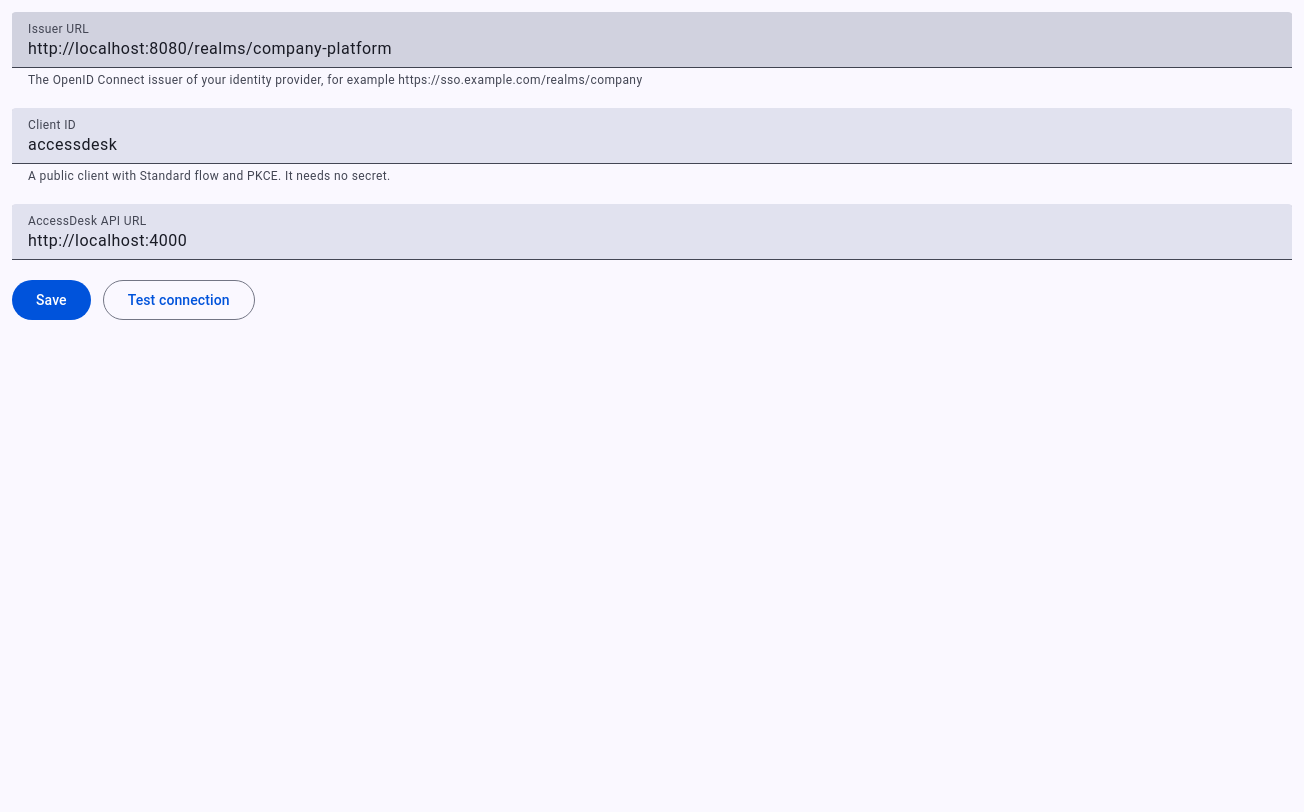
it: where toasts are used › confirms that settings were saved
Click the button "Save": (51, 300) [12,280,91,320]
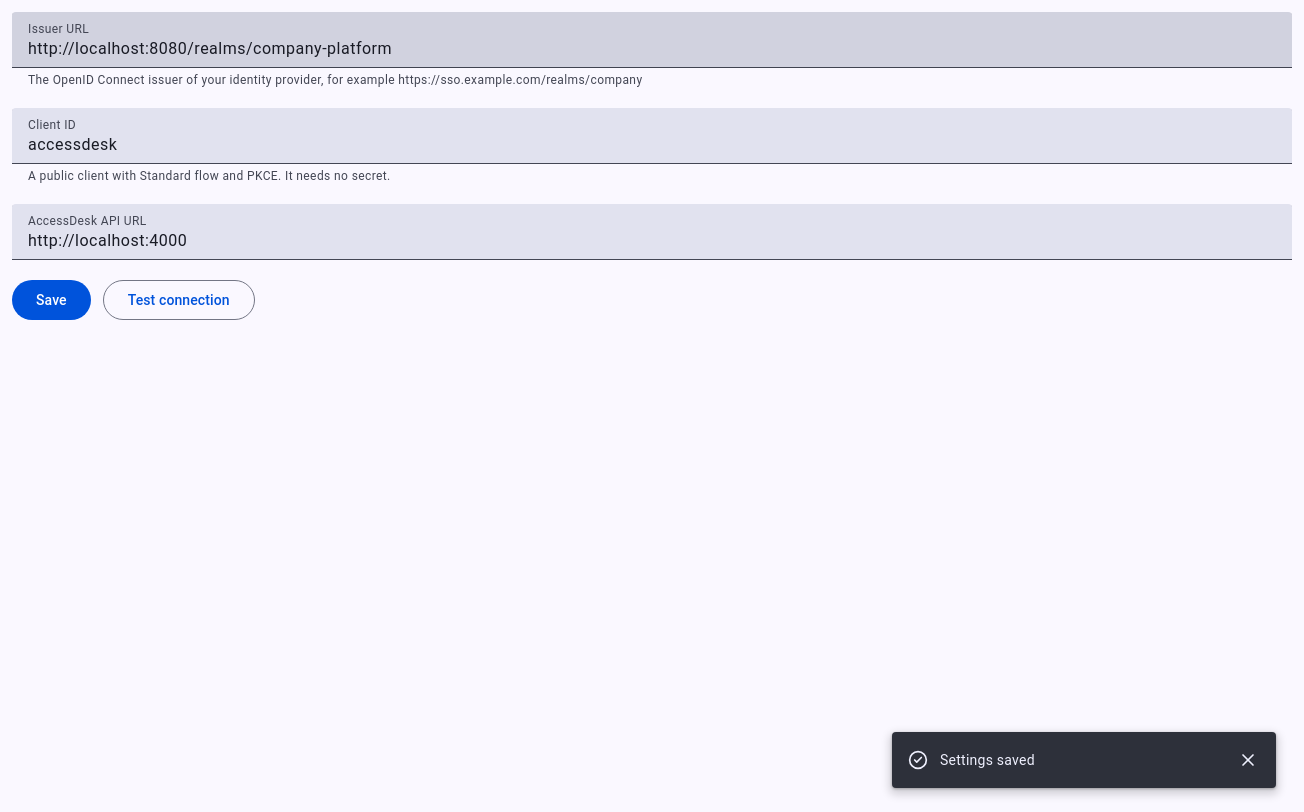
Result: the text "Settings saved" is shown at [940,752,1035,768]
